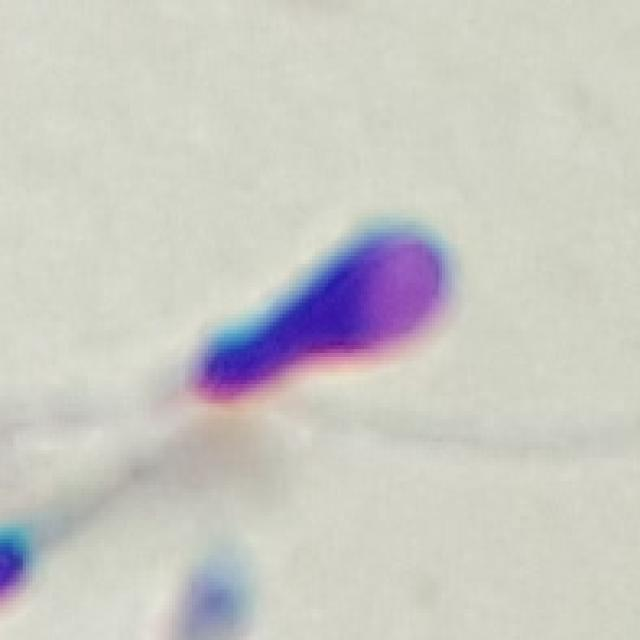abnormal sperm: (4, 194, 472, 444)
